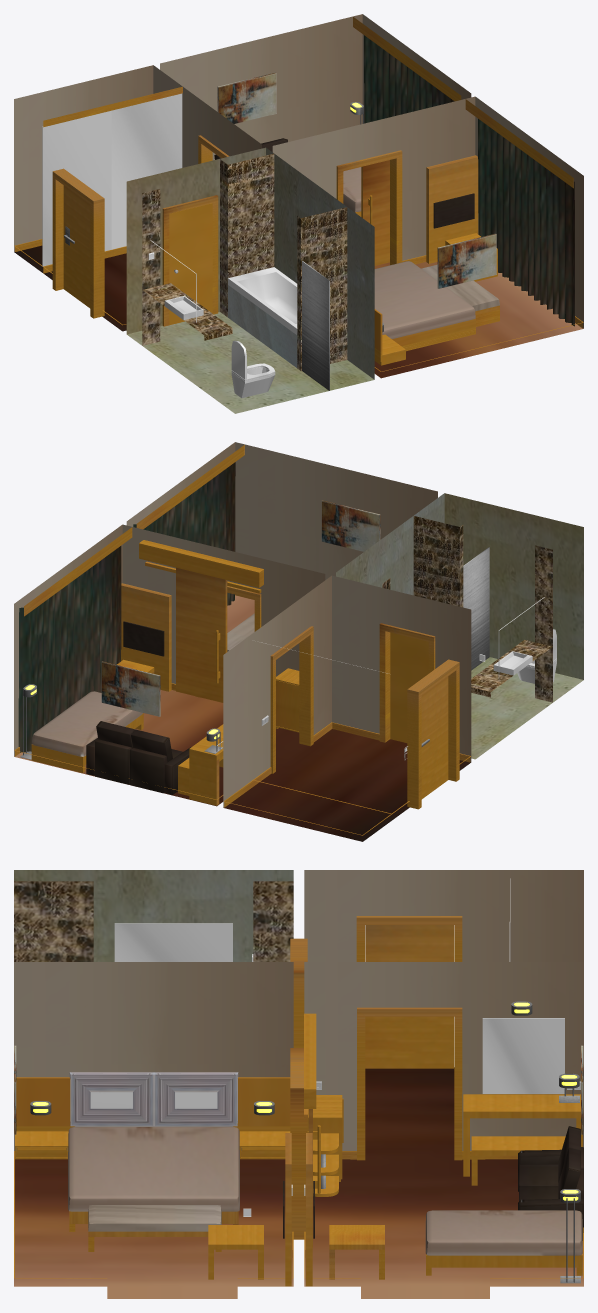
The model's file is room_bellis_deluxe.glb.
The picture shows the model from 3 angles, top to bottom: view 1: azimuth 30°, elevation 25°; view 2: azimuth 150°, elevation 25°; view 3: azimuth 270°, elevation 25°; orthographic projection. The views are drawn at different scales.
Parts seen in each view (by area): view 1: Box001, Box002, Box003, Plane003, Object001_01 - Default_0, Object003_01 - Default_0, Box040, Box047, Plane004, Box019, Box053, Box048 (+13 smaller); view 2: Box001, Plane004, Object001_01 - Default_0, Box002, Box036, Box013, Plane003, Object006_01 - Default_0, Box018, Box048, Box035, Box047 (+12 smaller); view 3: Box001, Object003_01 - Default_0, Box002, Object001_01 - Default_0, Object004_01 - Default_0, Box048, Object006_01 - Default_0, Plane001, Object005_01 - Default_0, Box004, Plane002, Box013 (+15 smaller).
Boxes of the visible parts, <box> form: Box001: <box>14,14,583,413</box>; Box002: <box>142,153,347,370</box>; Box003: <box>42,86,182,273</box>; Plane003: <box>478,119,574,326</box>; Object001_01 - Default_0: <box>52,135,402,326</box>; Object003_01 - Default_0: <box>374,261,475,338</box>; Box040: <box>228,267,297,367</box>; Box047: <box>169,203,212,325</box>; Plane004: <box>364,35,454,123</box>; Box019: <box>426,155,478,263</box>; Box053: <box>302,261,329,390</box>; Box048: <box>63,185,90,308</box>; Box001: <box>14,442,583,841</box>; Plane004: <box>18,546,121,752</box>; Object001_01 - Default_0: <box>196,586,459,809</box>; Box002: <box>382,516,552,702</box>; Box036: <box>176,567,227,702</box>; Box013: <box>86,721,191,794</box>; Plane003: <box>133,462,235,605</box>; Object006_01 - Default_0: <box>32,691,142,756</box>; Box018: <box>121,583,171,691</box>; Box048: <box>421,676,448,799</box>; Box035: <box>139,540,263,593</box>; Box047: <box>390,632,428,742</box>; Box001: <box>14,870,583,1298</box>; Object003_01 - Default_0: <box>68,1127,239,1211</box>; Box002: <box>14,881,293,961</box>; Object001_01 - Default_0: <box>290,916,462,1239</box>; Object004_01 - Default_0: <box>69,1072,238,1126</box>; Box048: <box>365,925,453,1068</box>; Object006_01 - Default_0: <box>425,1210,582,1255</box>; Plane001: <box>482,1018,564,1093</box>; Object005_01 - Default_0: <box>16,1077,290,1131</box>; Box004: <box>463,1094,582,1185</box>; Plane002: <box>114,923,232,961</box>; Box013: <box>518,1126,583,1240</box>.
Size of the model in its own units: 1.76 by 0.6825 by 1.79.
2 materials, 1 textured.
